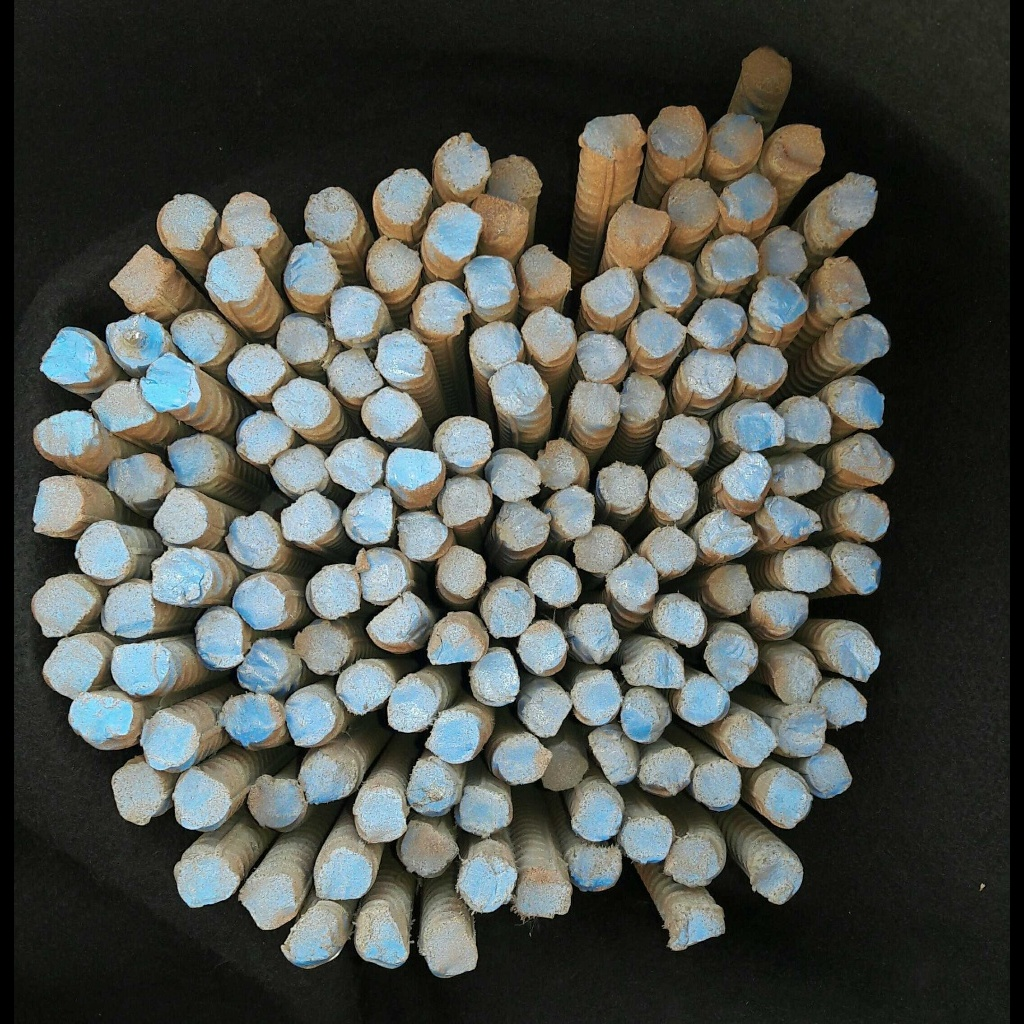dipstick: (31, 576, 94, 636), (218, 192, 277, 250), (141, 711, 198, 771), (457, 857, 517, 914), (67, 692, 133, 743), (43, 641, 101, 699), (367, 593, 426, 650), (174, 855, 238, 907), (298, 747, 357, 803), (143, 354, 200, 411), (158, 194, 216, 250), (109, 245, 164, 304), (361, 387, 421, 441), (93, 380, 156, 431), (206, 247, 264, 302), (611, 201, 669, 256), (151, 550, 206, 607), (112, 764, 162, 826), (429, 201, 482, 259), (111, 644, 169, 697), (223, 694, 282, 746), (247, 774, 303, 828), (40, 330, 97, 383), (326, 439, 383, 492), (175, 772, 228, 829), (356, 910, 408, 968), (377, 169, 431, 224), (154, 487, 208, 542), (306, 564, 360, 619), (471, 320, 525, 375), (704, 636, 758, 691), (75, 523, 128, 579), (241, 878, 298, 930), (272, 379, 331, 429), (33, 411, 98, 456), (475, 195, 529, 249), (401, 822, 455, 876), (101, 582, 154, 637), (483, 581, 535, 637), (387, 447, 444, 498), (407, 759, 458, 816), (237, 638, 290, 692), (490, 362, 545, 414), (228, 344, 284, 395), (295, 623, 351, 674), (106, 316, 163, 366), (195, 610, 244, 668), (328, 349, 382, 401), (416, 282, 470, 334), (828, 376, 883, 427), (440, 134, 490, 190), (436, 417, 492, 467), (429, 615, 486, 664), (367, 237, 419, 290), (233, 576, 285, 629), (236, 414, 290, 465), (227, 512, 278, 566), (426, 712, 480, 763), (342, 490, 392, 545), (495, 500, 550, 550), (588, 730, 638, 785), (834, 314, 889, 364), (769, 125, 824, 175), (494, 733, 550, 782), (35, 477, 83, 534), (283, 693, 335, 745), (281, 491, 332, 544), (621, 690, 672, 743), (750, 851, 803, 902), (168, 436, 222, 486), (317, 848, 371, 898), (337, 664, 392, 713), (471, 650, 520, 705), (639, 747, 694, 796), (572, 671, 621, 726), (838, 434, 894, 482), (764, 771, 811, 828), (306, 187, 357, 239), (523, 308, 574, 360), (652, 105, 704, 156), (683, 348, 735, 399), (711, 114, 763, 165), (427, 925, 477, 978), (582, 266, 636, 315), (828, 172, 876, 227), (170, 313, 226, 360), (108, 454, 165, 500), (520, 247, 571, 298), (331, 286, 381, 338), (466, 256, 515, 309), (522, 685, 571, 738), (654, 594, 703, 647), (759, 226, 808, 279), (665, 836, 719, 884), (516, 870, 571, 917), (668, 905, 725, 950), (583, 114, 644, 156), (285, 243, 335, 294), (356, 790, 406, 841), (375, 332, 427, 381), (609, 555, 658, 607), (754, 278, 806, 327), (272, 444, 325, 492), (700, 510, 753, 558), (360, 549, 407, 603), (399, 511, 453, 558), (689, 299, 743, 346), (625, 646, 684, 689), (578, 332, 628, 382), (440, 476, 491, 525), (661, 415, 712, 464), (723, 174, 774, 223), (829, 631, 878, 682), (517, 620, 565, 672), (822, 257, 869, 310), (812, 679, 866, 725), (834, 541, 880, 595), (461, 786, 510, 836), (669, 179, 718, 229), (677, 678, 729, 725), (721, 451, 770, 500), (489, 454, 541, 500), (706, 236, 759, 281), (575, 525, 623, 574), (388, 683, 437, 731), (780, 706, 827, 756), (573, 604, 619, 655), (650, 467, 696, 518), (735, 403, 786, 449), (283, 925, 337, 968), (277, 317, 327, 363), (440, 544, 485, 595), (571, 795, 622, 840), (570, 845, 621, 890), (621, 817, 672, 862), (633, 311, 684, 356), (755, 591, 808, 634), (531, 559, 579, 606), (727, 720, 775, 767), (774, 656, 821, 704), (647, 526, 696, 572), (490, 155, 540, 200), (772, 453, 824, 496), (842, 492, 889, 539), (695, 760, 741, 808), (539, 440, 584, 489), (645, 257, 690, 306), (736, 343, 785, 388), (741, 49, 792, 92), (600, 463, 647, 509), (707, 565, 754, 611), (785, 396, 831, 443), (783, 547, 831, 592), (573, 381, 620, 426), (542, 742, 587, 789), (551, 488, 594, 537), (808, 752, 851, 798), (621, 374, 663, 419)
